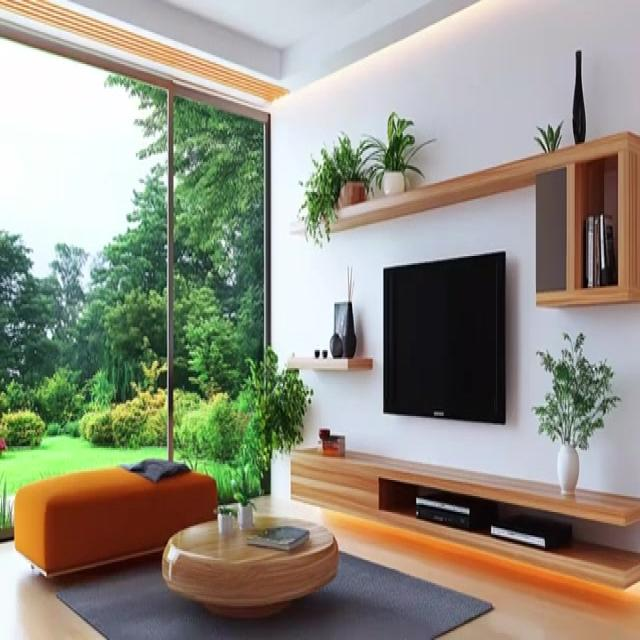obstacle: (290, 443, 640, 590), (13, 457, 218, 579), (161, 512, 339, 619)
